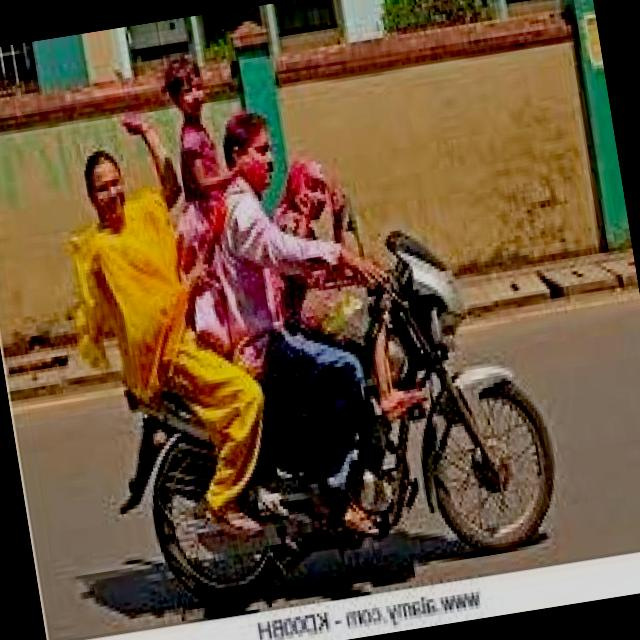motorcycle: (90, 205, 574, 619)
person: (61, 121, 252, 550), (151, 48, 284, 433), (201, 102, 331, 461), (261, 120, 400, 438)
rider_region: (56, 11, 564, 608)
